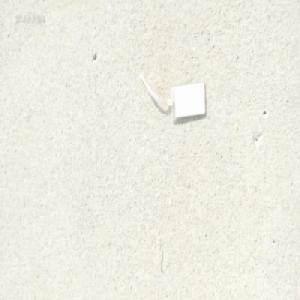LuggageTag: (137, 65, 207, 122)
